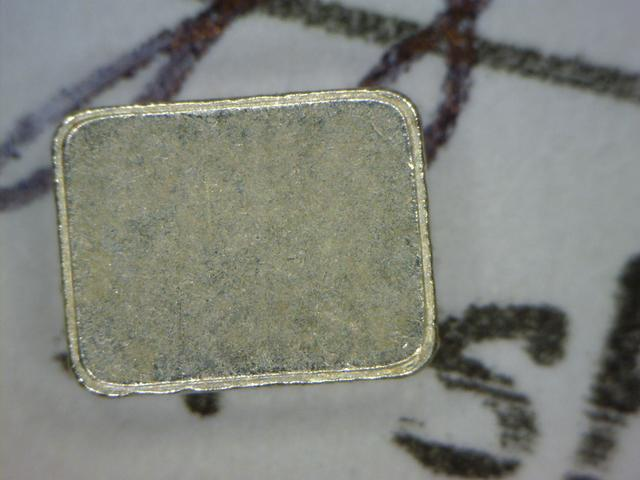nok: (49, 82, 451, 401)
